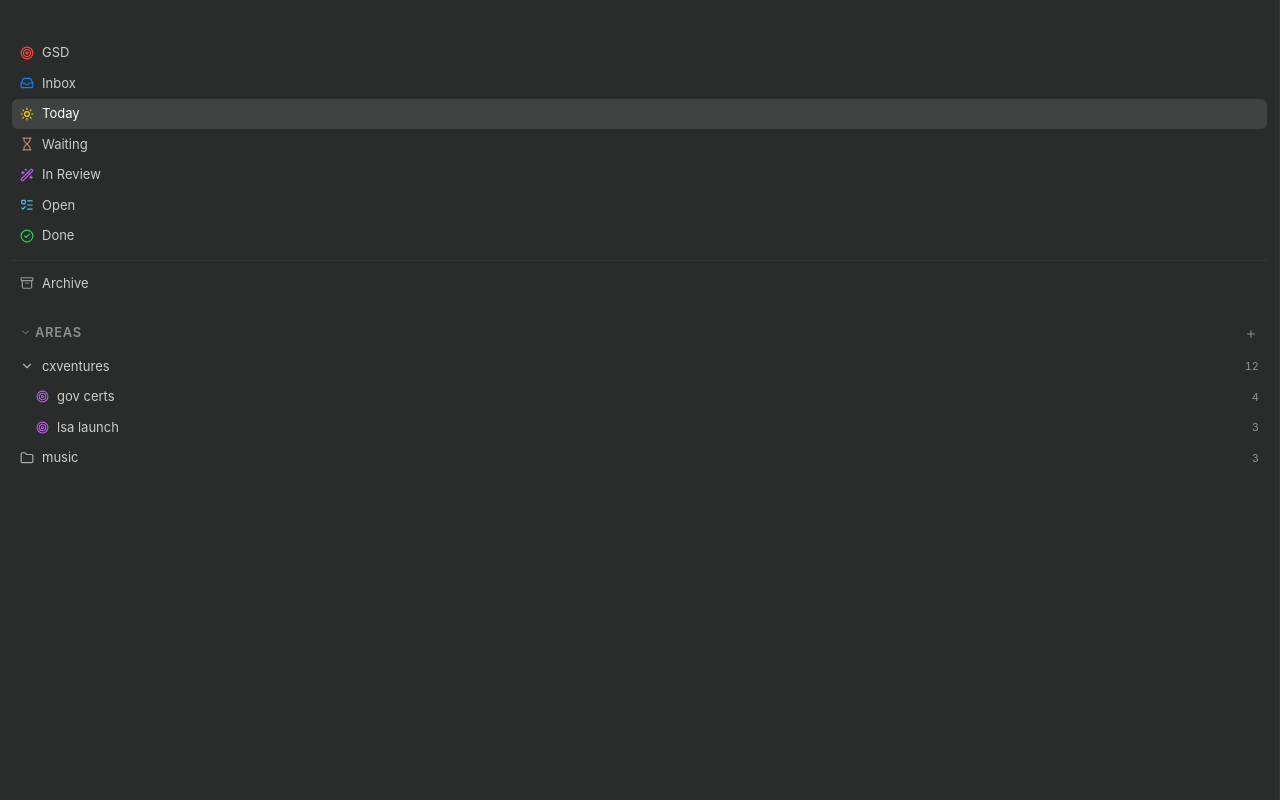
Test: collapsing an area › collapses the whole Areas section and remembers the choice
This screenshot has width=1280, height=800.
Click the button "Areas": (58, 332) [12,322,1243,346]
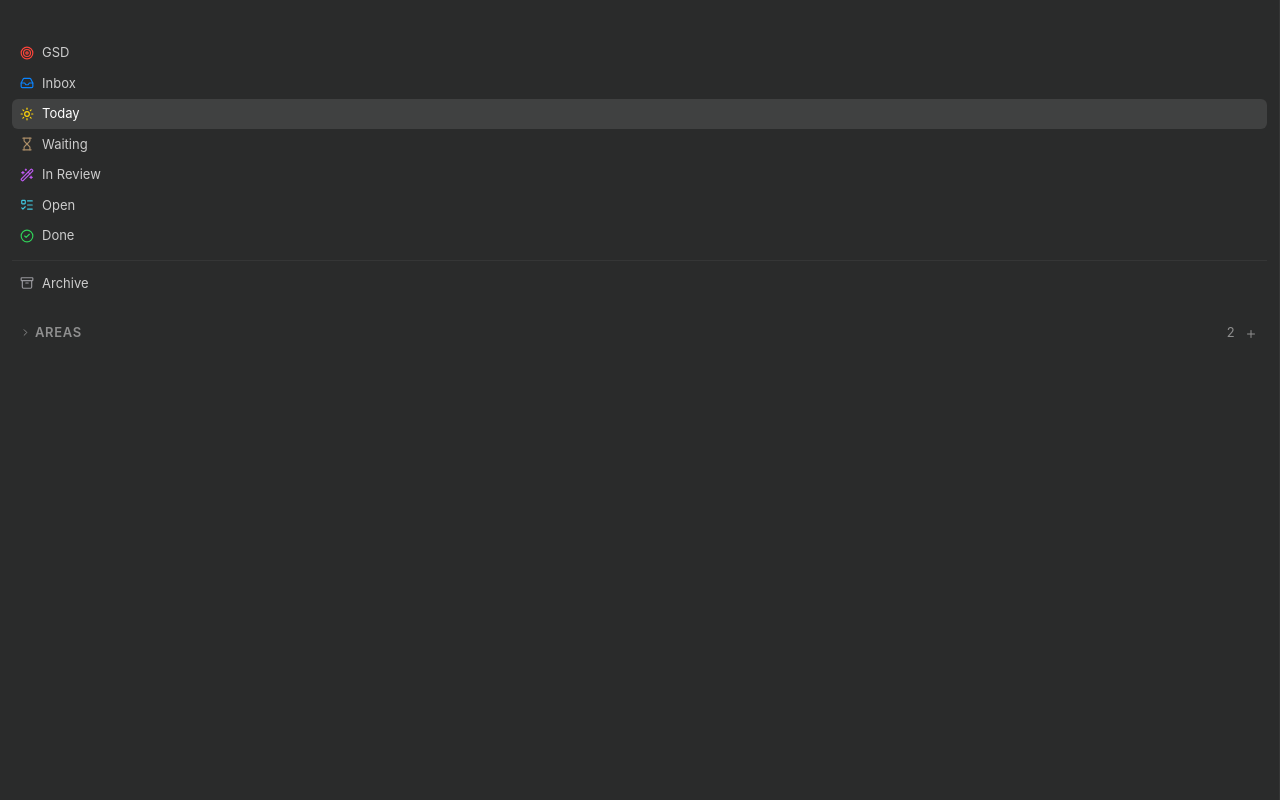
expect the button "Areas 2" is collapsed: met, box [12,322,1243,346]
Click the button named "New area": (1251, 334) [1243,326,1259,342]
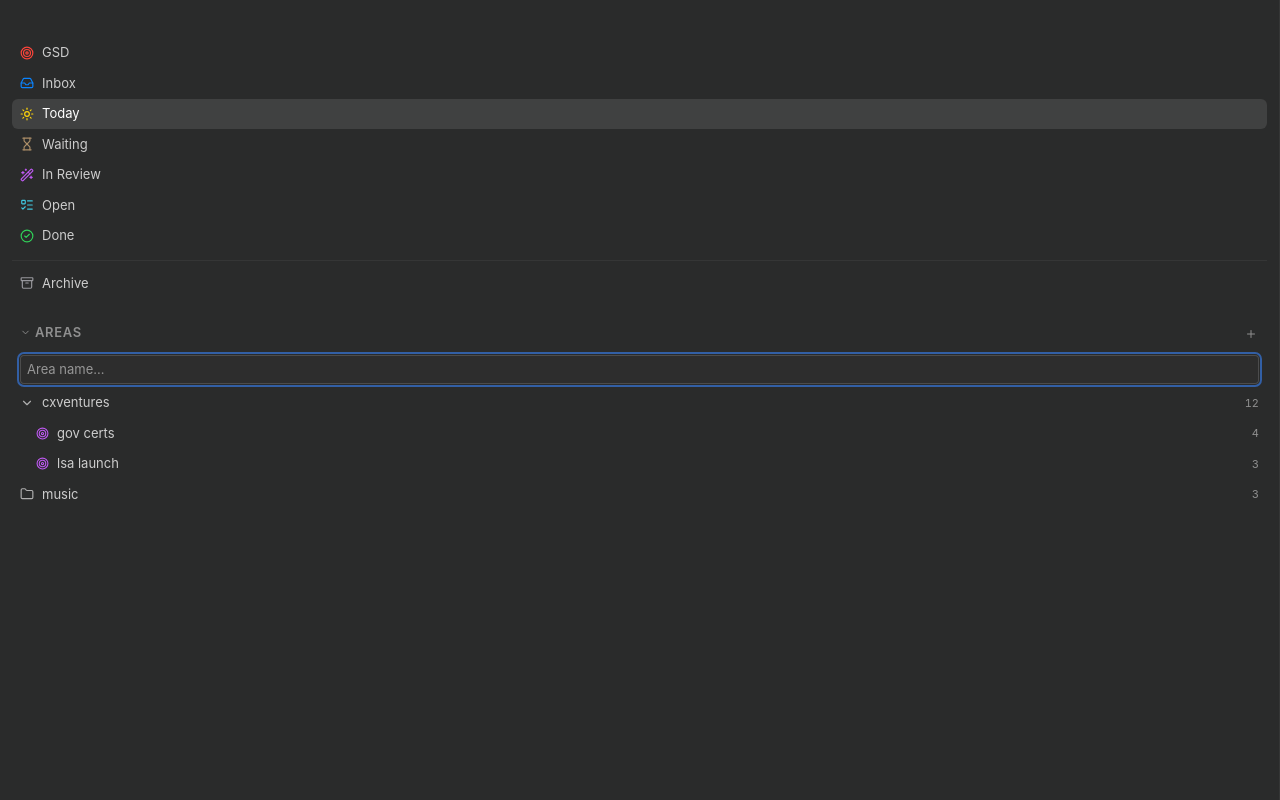
expect the button "Areas" is expanded: met, box [12,322,1243,346]
expect the field with placeholder "Area name…" is shown: met, box [20,354,1259,384]
